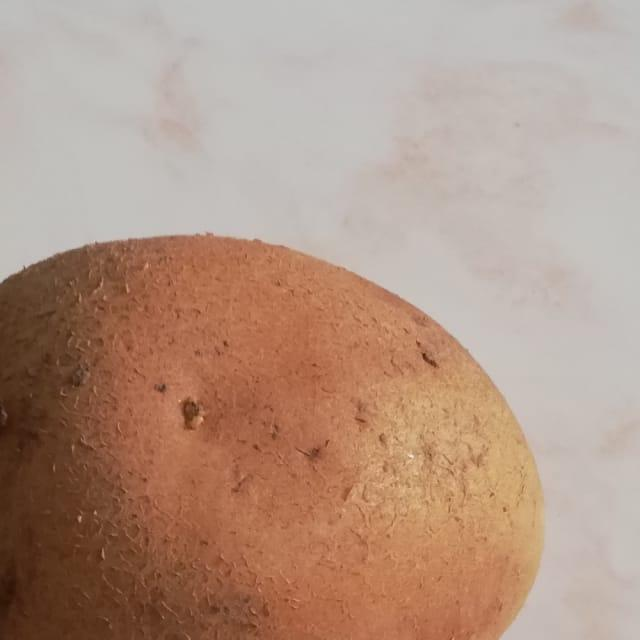potato: (0, 219, 565, 640)
